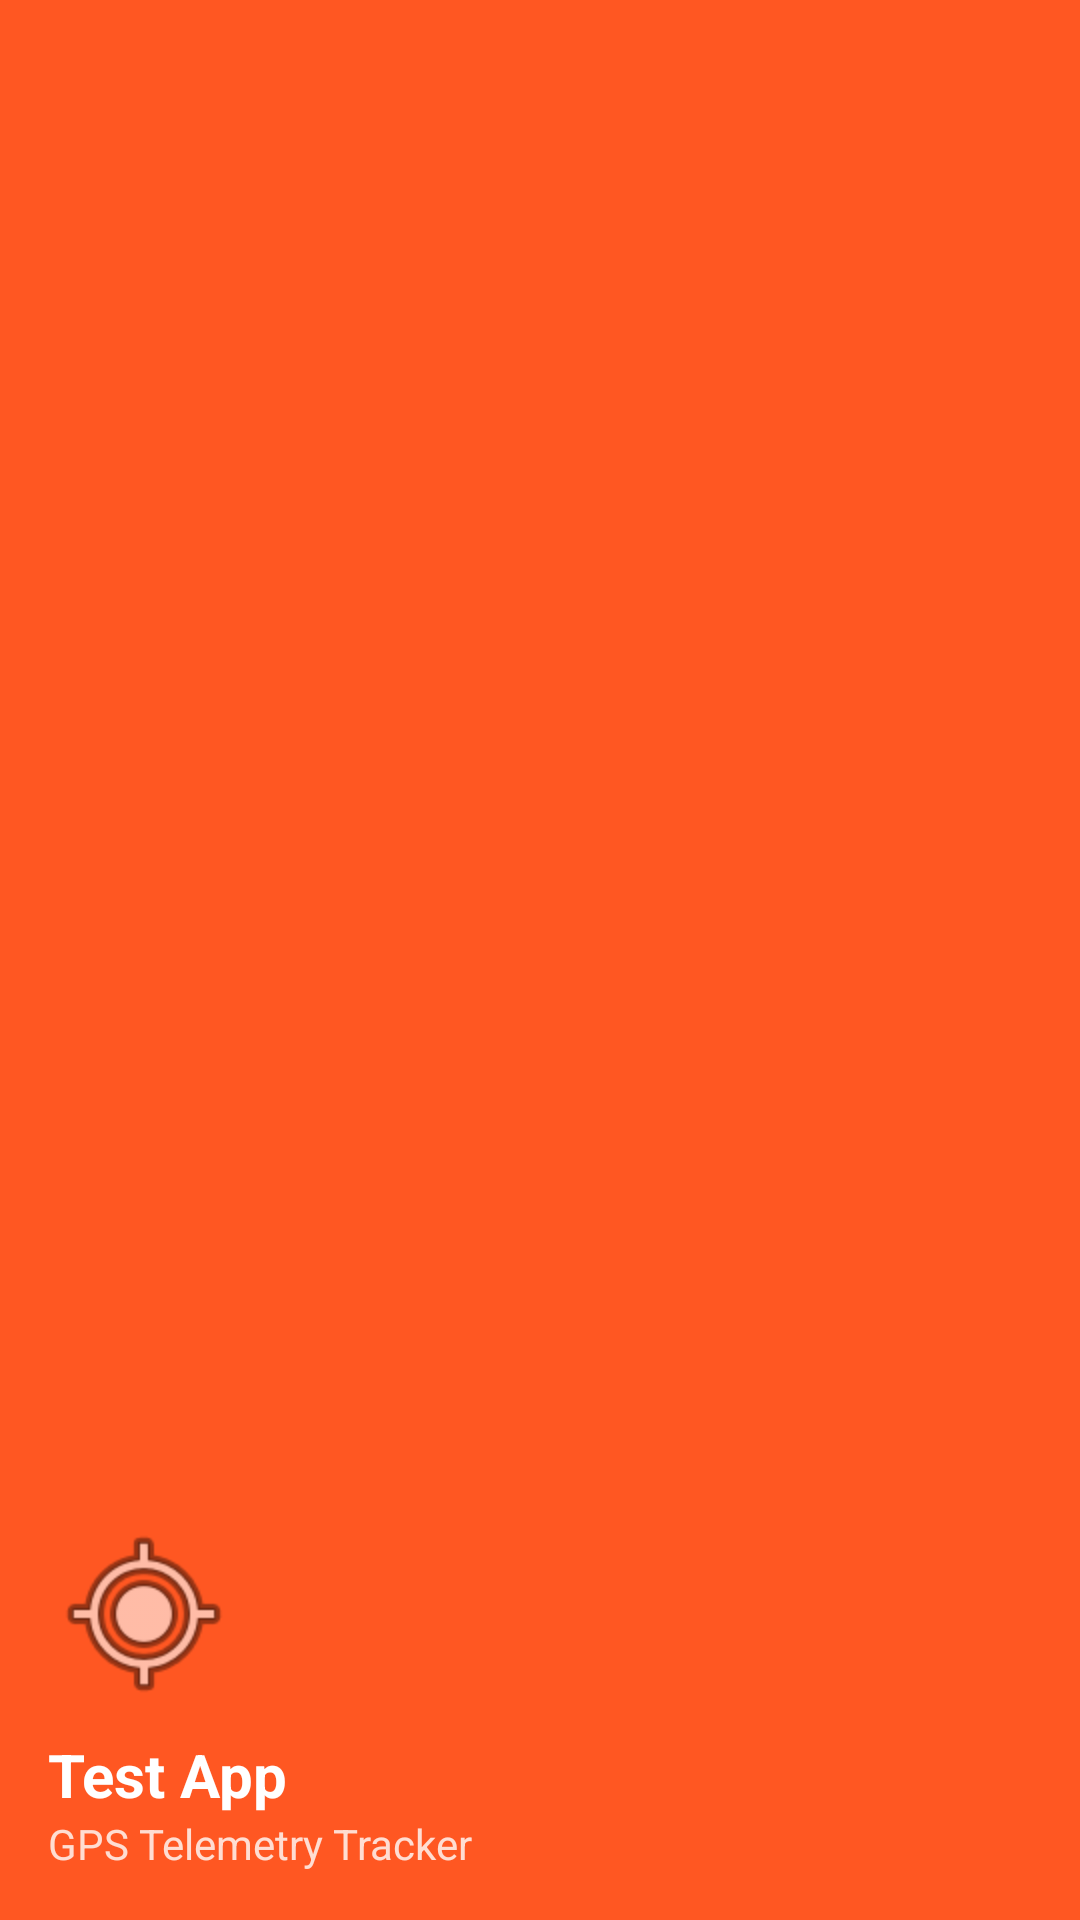

Where to tap for icons on this 1080px×1920px app screen, as (x,y):
mylocation: (144,1614)
